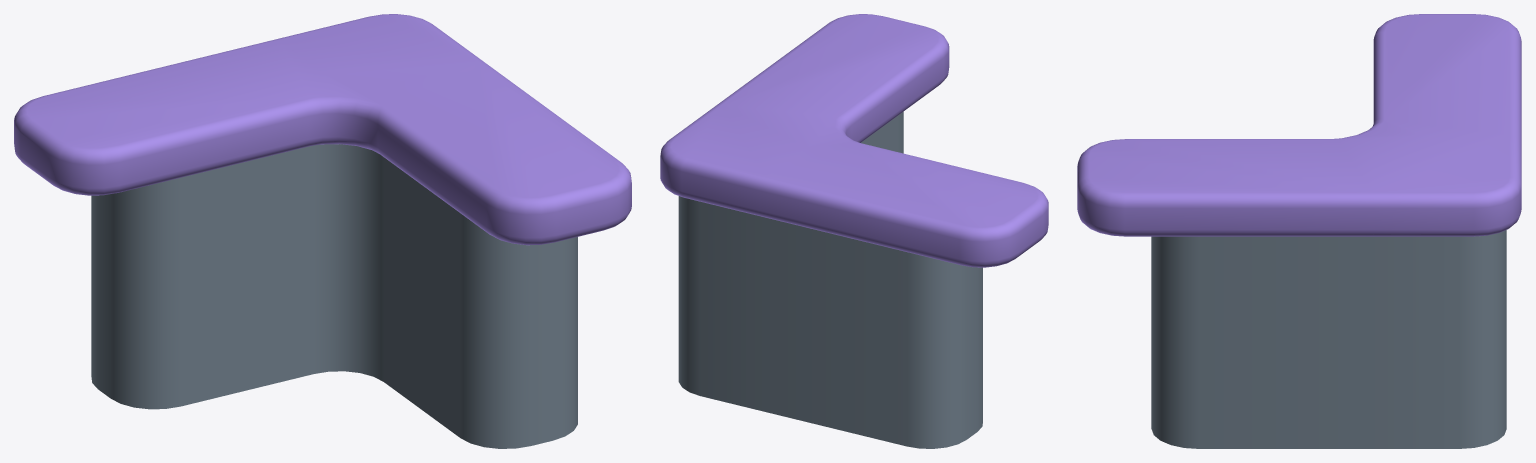
File: Corner_Thin_Table.fbx
3 renders of one model, left to right at view 1: azimuth 30°, elevation 25°; view 2: azimuth 150°, elevation 25°; view 3: azimuth 270°, elevation 25°, orthographic. The views are drawn at different scales.
Visible parts, largest first — view 1: Corner Thin Table; view 2: Corner Thin Table; view 3: Corner Thin Table.
Boxes of the visible parts, x1=… form: Corner Thin Table: x1=14, y1=14, x2=631, y2=448; Corner Thin Table: x1=660, y1=14, x2=1048, y2=448; Corner Thin Table: x1=1077, y1=14, x2=1521, y2=448.
Size of the model in its own units: 188 by 120 by 188.
